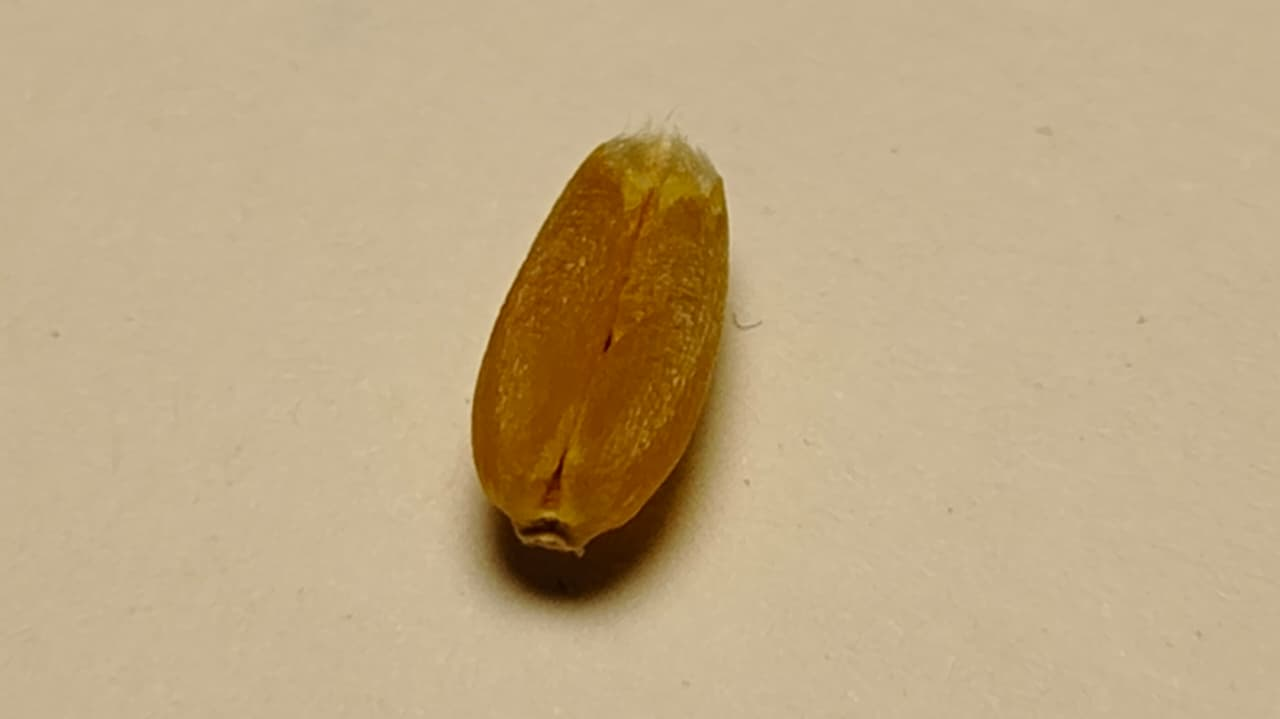healthy: (471, 124, 729, 556)
